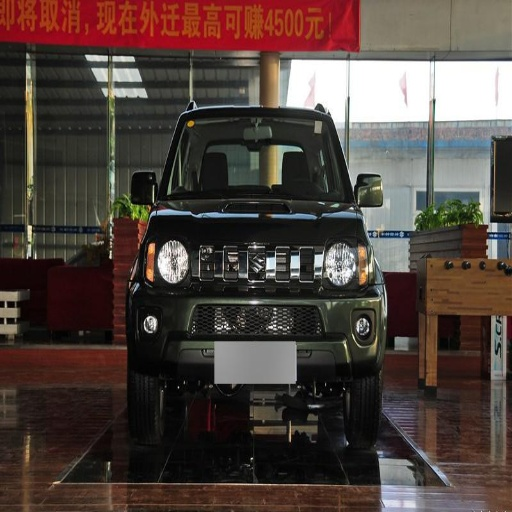front_bumper: (131, 244, 384, 384)
front_right_light: (145, 241, 188, 282)
hood: (154, 200, 359, 252)
trunk: (189, 232, 247, 284)
